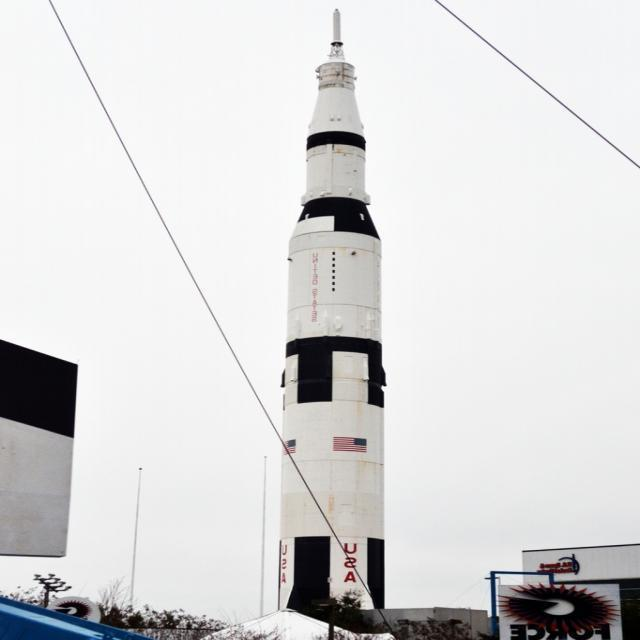missile: (280, 9, 393, 614)
